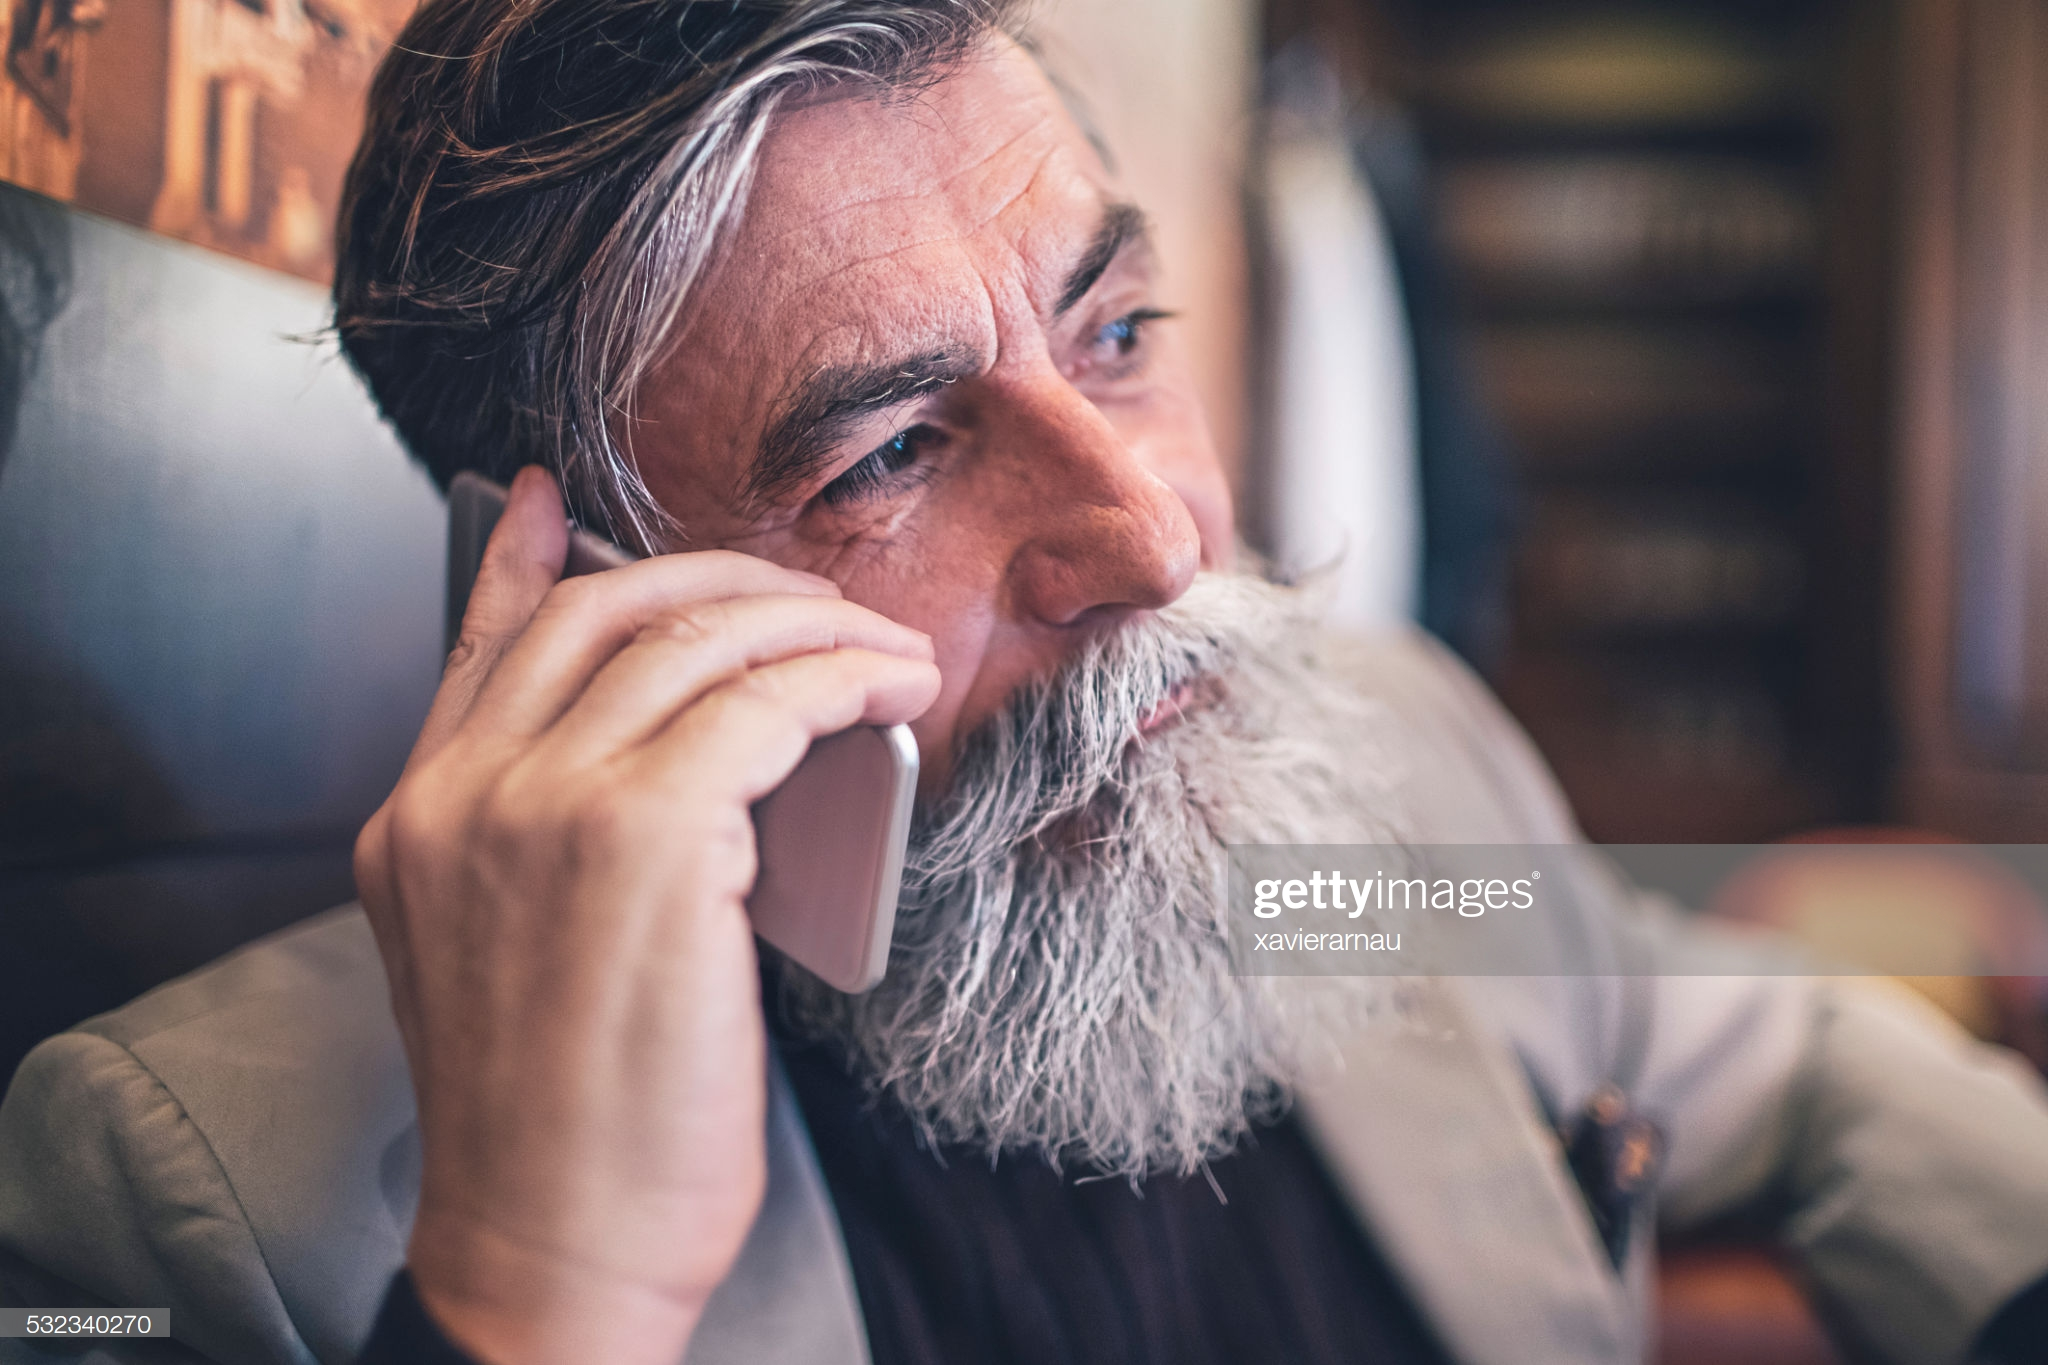phone: (388, 474, 959, 983)
talk: (332, 183, 1281, 1207)
